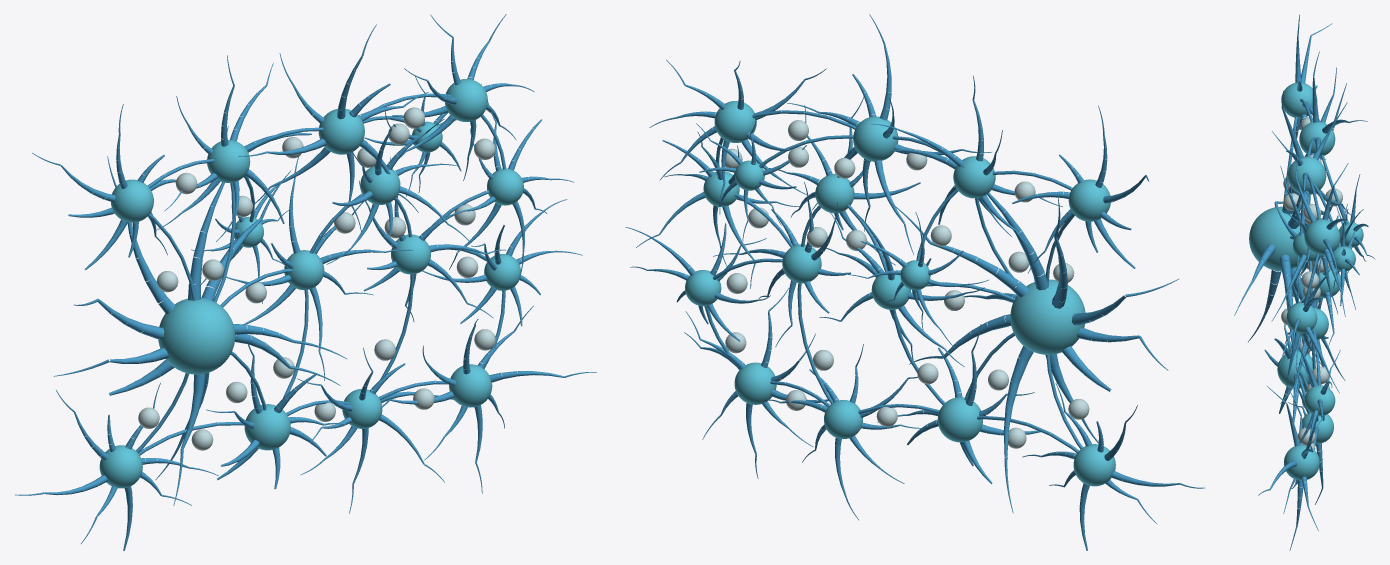
File: neuron.glb
The picture shows the model from 3 angles, left to right: view 1: azimuth 30°, elevation 25°; view 2: azimuth 150°, elevation 25°; view 3: azimuth 270°, elevation 25°; orthographic projection. The views are drawn at different scales.
Bounding box in the file's own units: 21.59 × 17.91 × 5.49.
